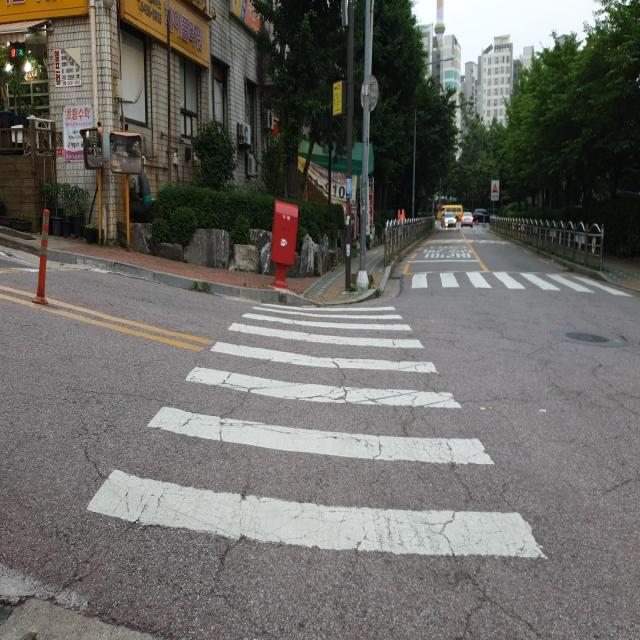횡단보도: (86, 300, 546, 560), (390, 270, 640, 298)
